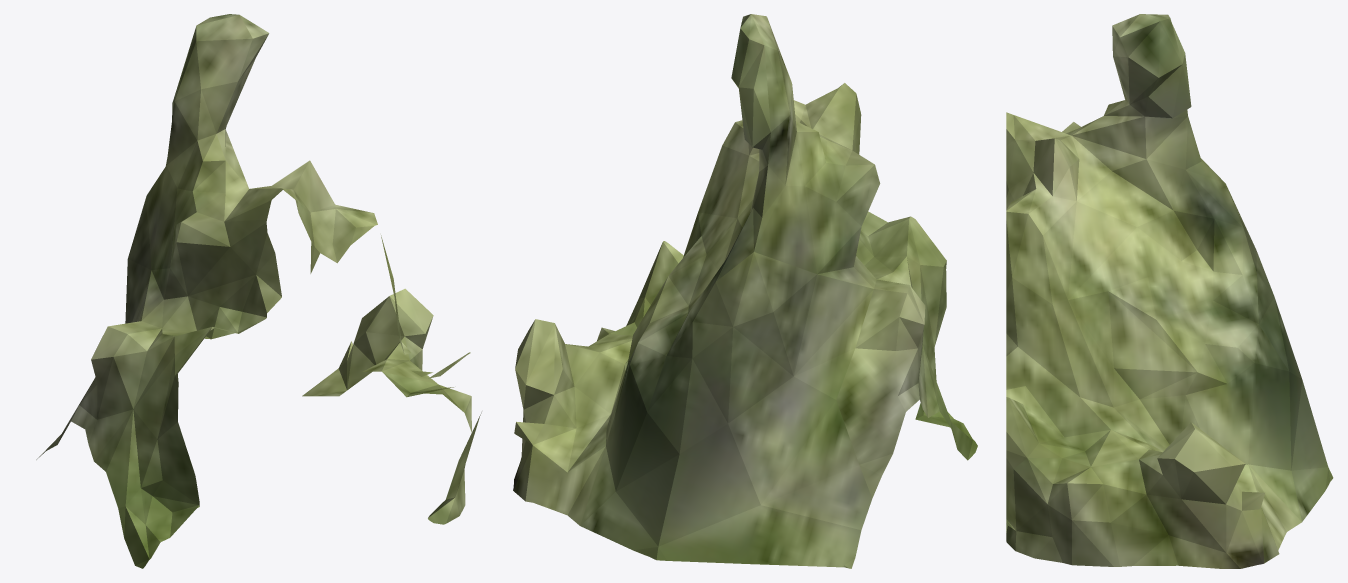
The picture shows the model from 3 angles, left to right: view 1: azimuth 30°, elevation 25°; view 2: azimuth 150°, elevation 25°; view 3: azimuth 270°, elevation 25°; orthographic projection. The views are drawn at different scales.
Bounding box in the file's own units: 3.43 × 4.26 × 2.71.
1 material, 1 textured.
